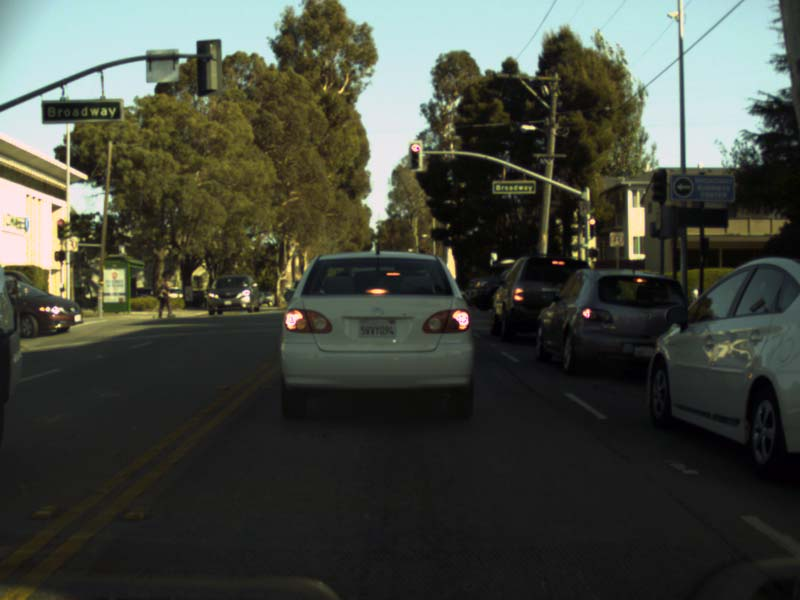Red: (409, 142, 421, 168), (588, 216, 595, 236)
